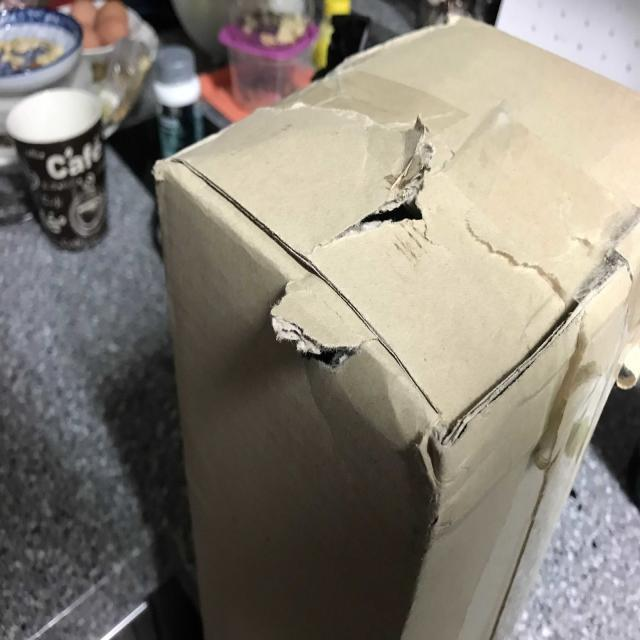box: (1, 22, 529, 616)
opened: (304, 180, 543, 386)
tear: (186, 382, 420, 538), (210, 40, 297, 279)
